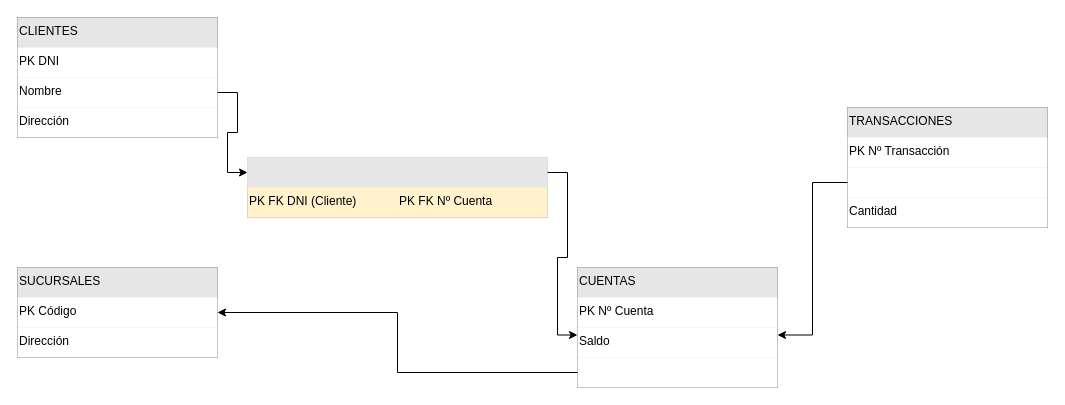
Image size: 1065x405. Some labels were removed from this diagram. The centre of each missing label's shape, as x and y in pixels:
"Fecha" belongs at [947,182].
"FK Código Sucursal" belongs at [677,372].
"RELACIÓN CLIENTES-CUENTAS" belongs at [397,172].
